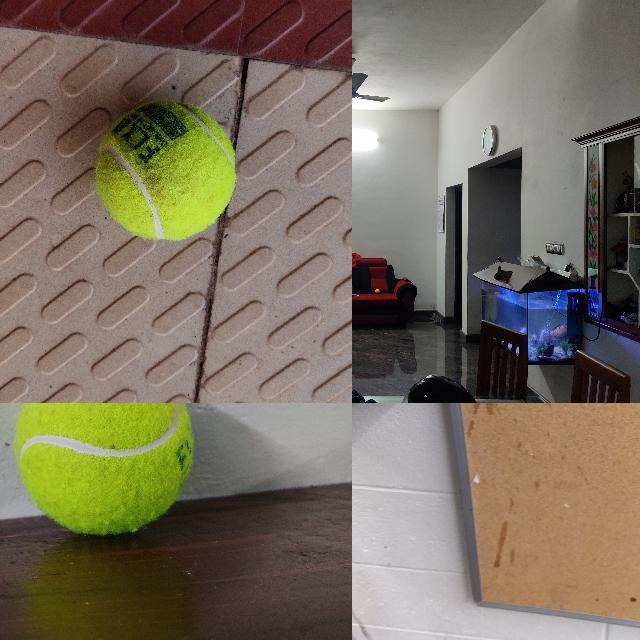tennis-ball: (12, 403, 194, 535), (95, 101, 235, 239), (375, 289, 379, 293)
